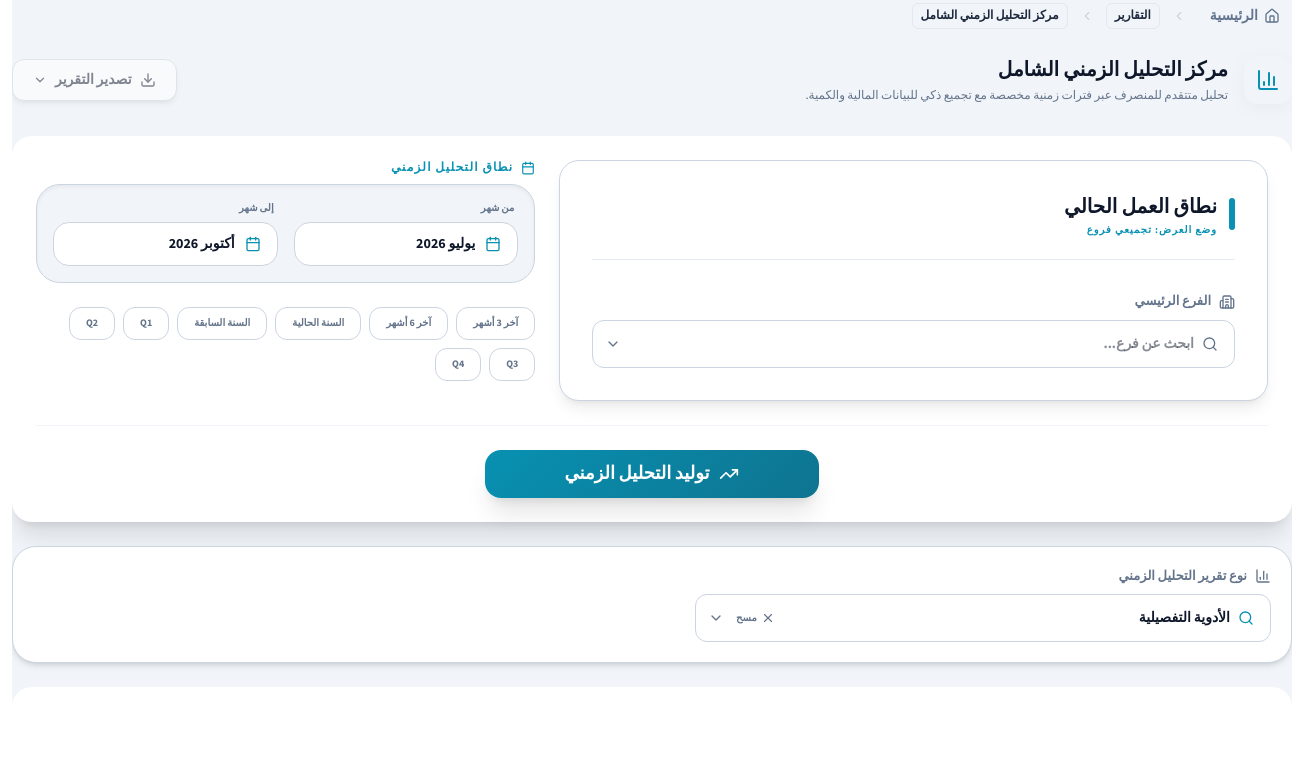
it: TemporalAnalysisHub report-type clear (مسح) › clear empties the visible box (no stale name), keeps it re-selectable
Focus the field showing "الأدوية التفصيلية" at point(1006, 618), box [783,596,1230,640]
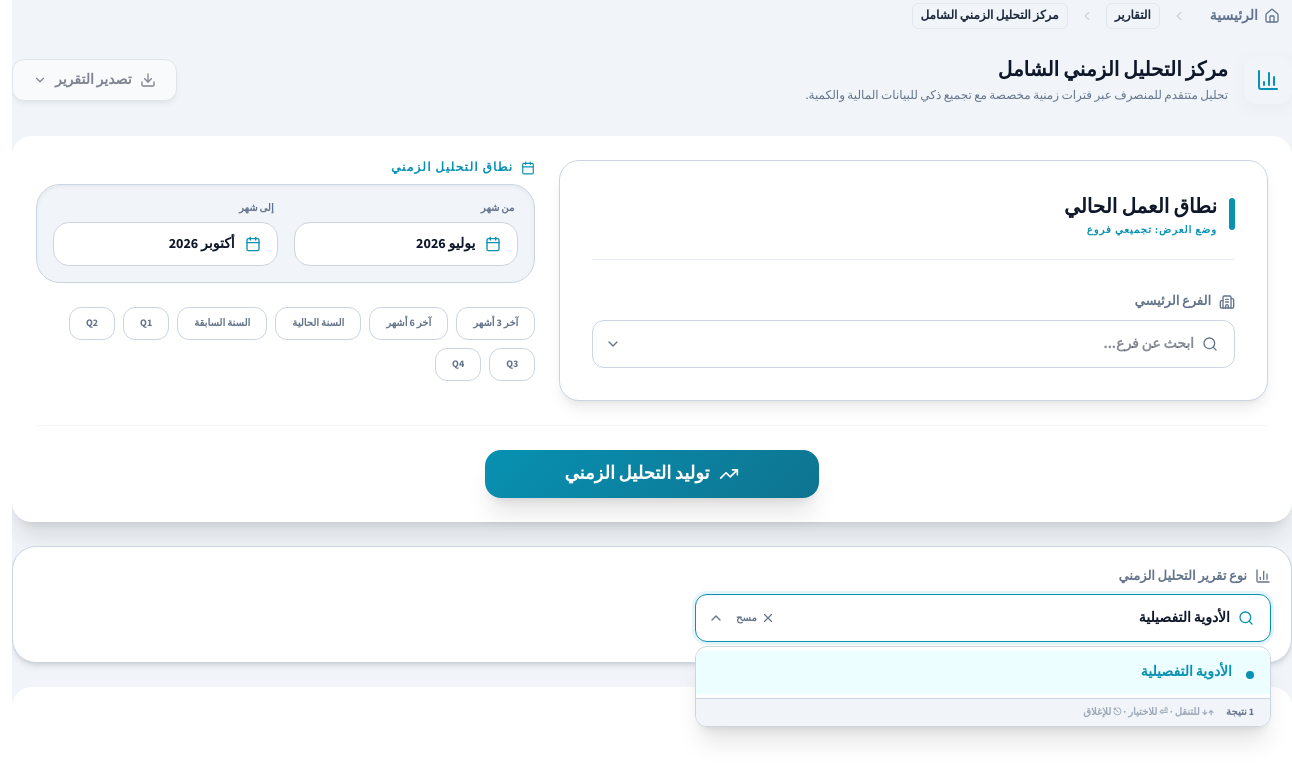
Clear the field showing "الأدوية التفصيلية" at point(1006, 618), box [783,596,1230,640]
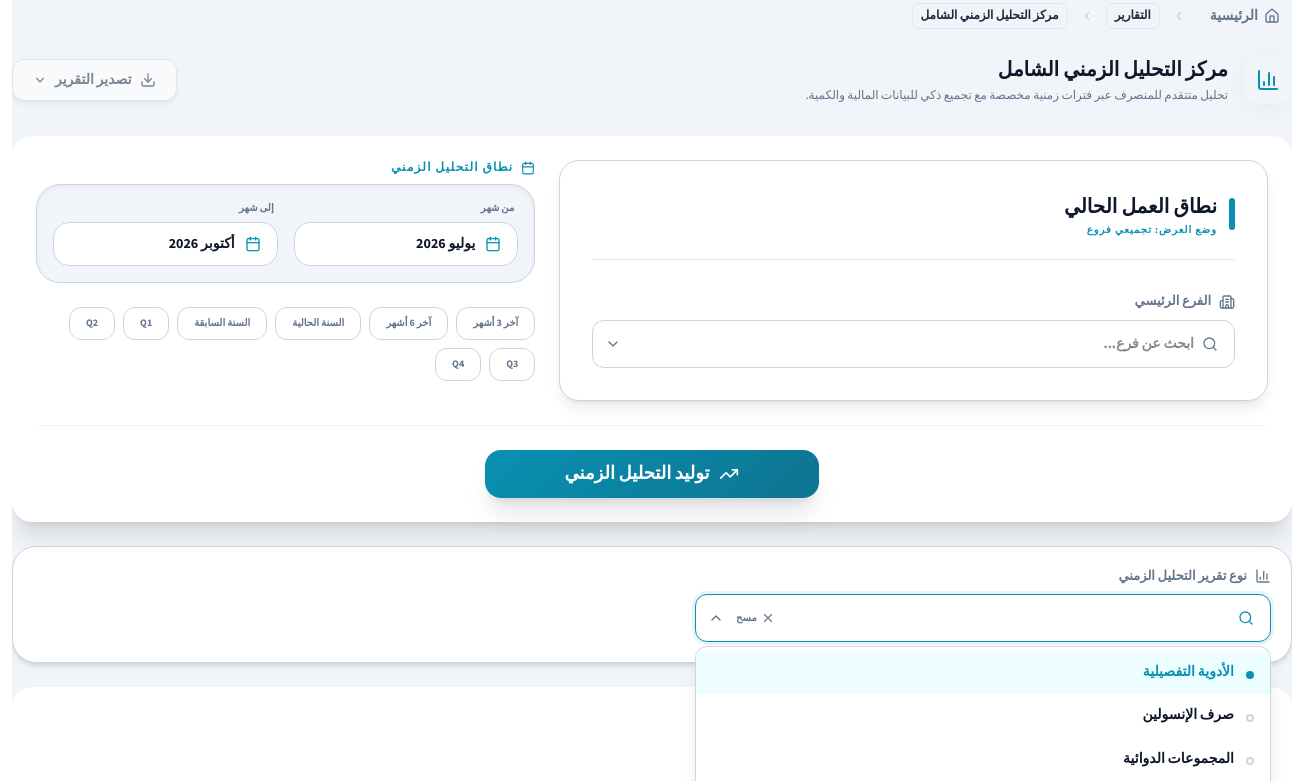
Click the button "صرف الإنسولين".
click(1188, 715)  # box [696,694,1270,738]
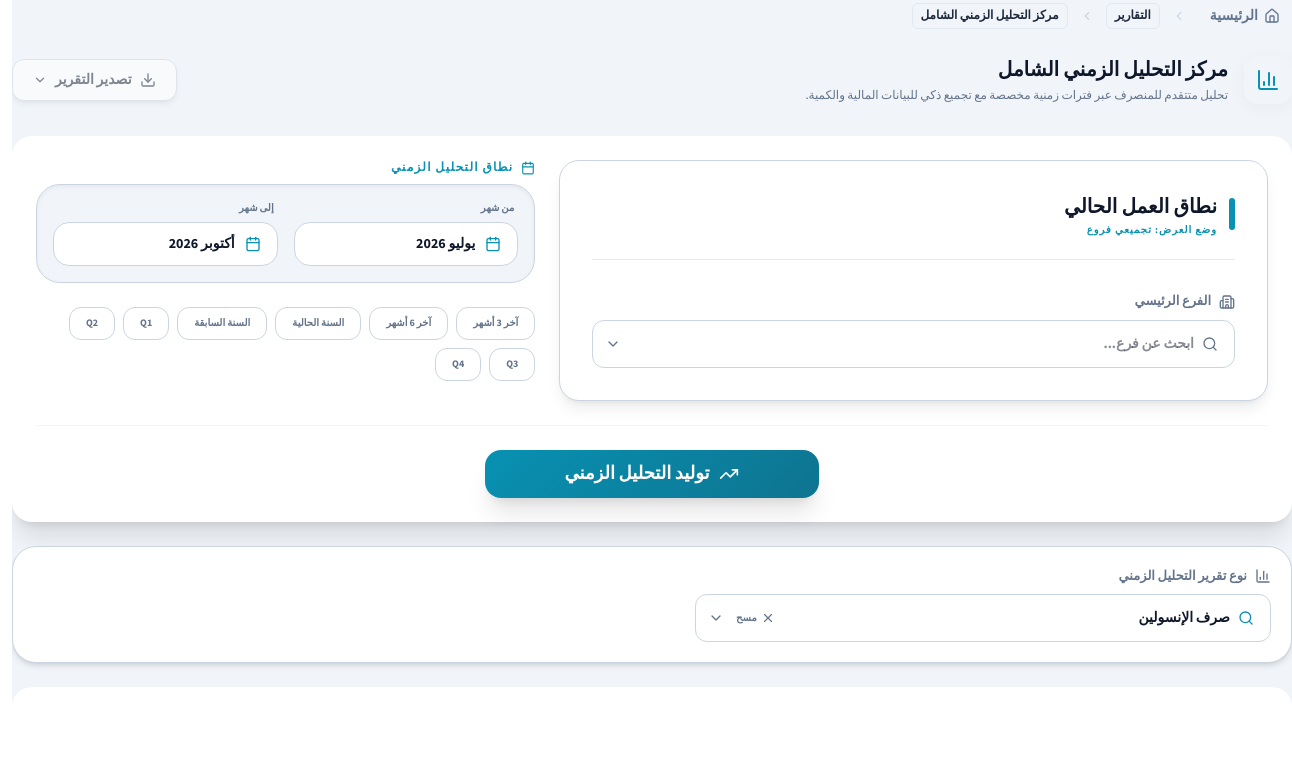
Now the field showing "صرف الإنسولين" is shown, box [783,596,1230,640]
Click the button titled "مسح التحديد".
click(755, 618)  # box [728,606,783,630]
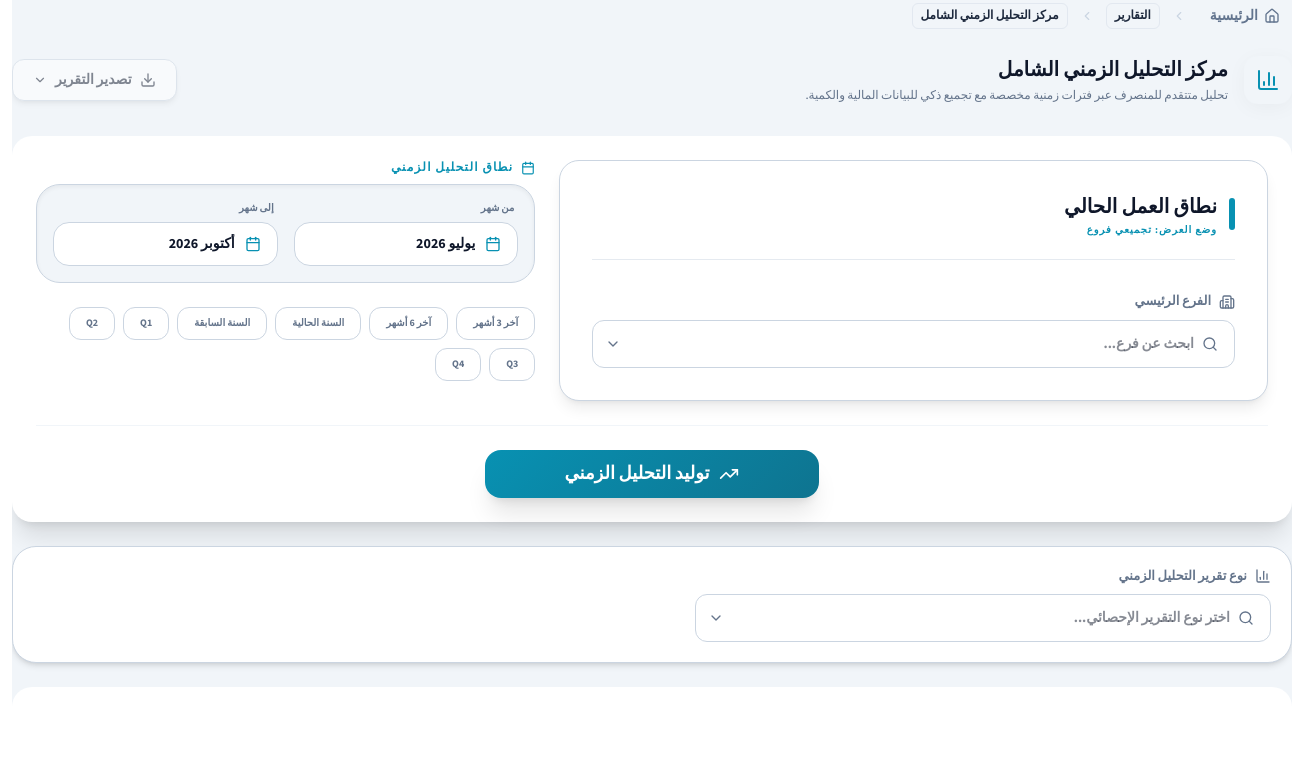
Expected: the button showing "صرف الإنسولين" is not shown
Click the field with placeholder "اختر نوع التقرير الإحصائي...".
click(979, 618)  # box [728,596,1230,640]
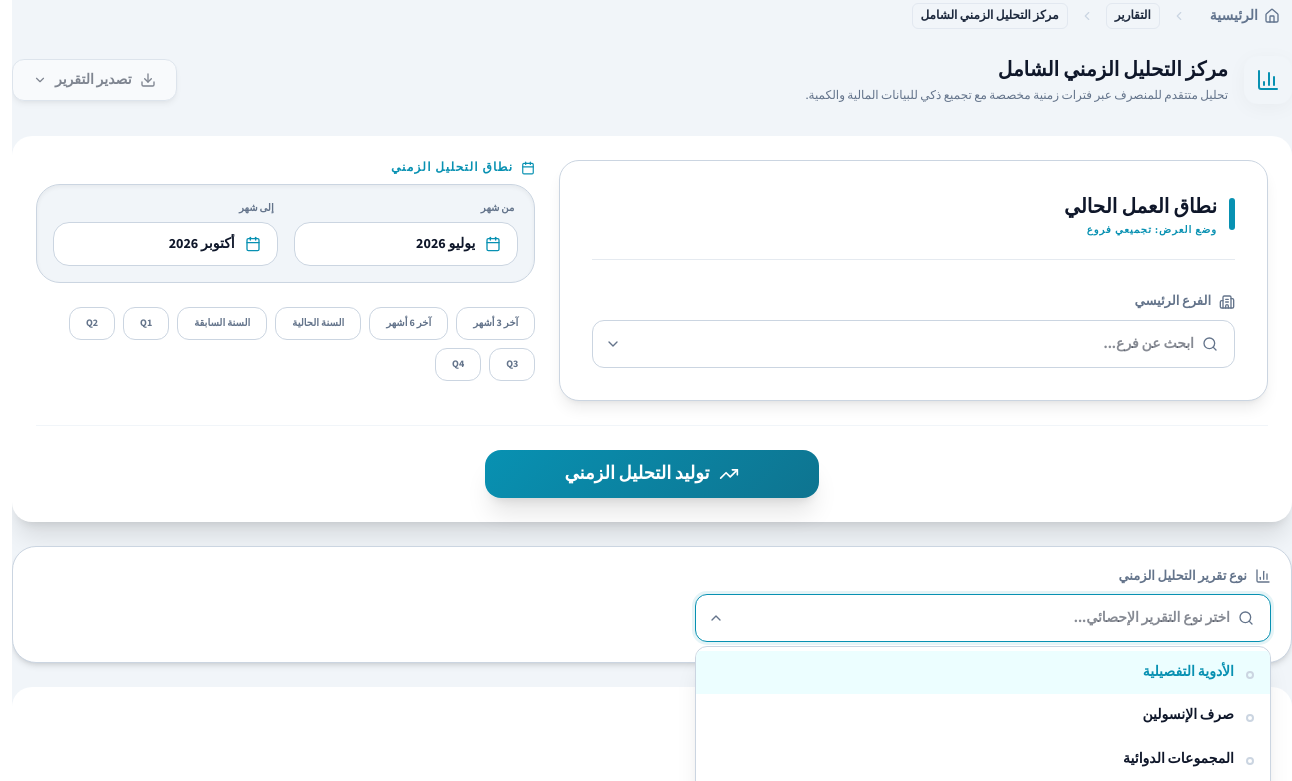
Click the button "صرف الإنسولين".
click(1188, 715)  # box [696,694,1270,738]
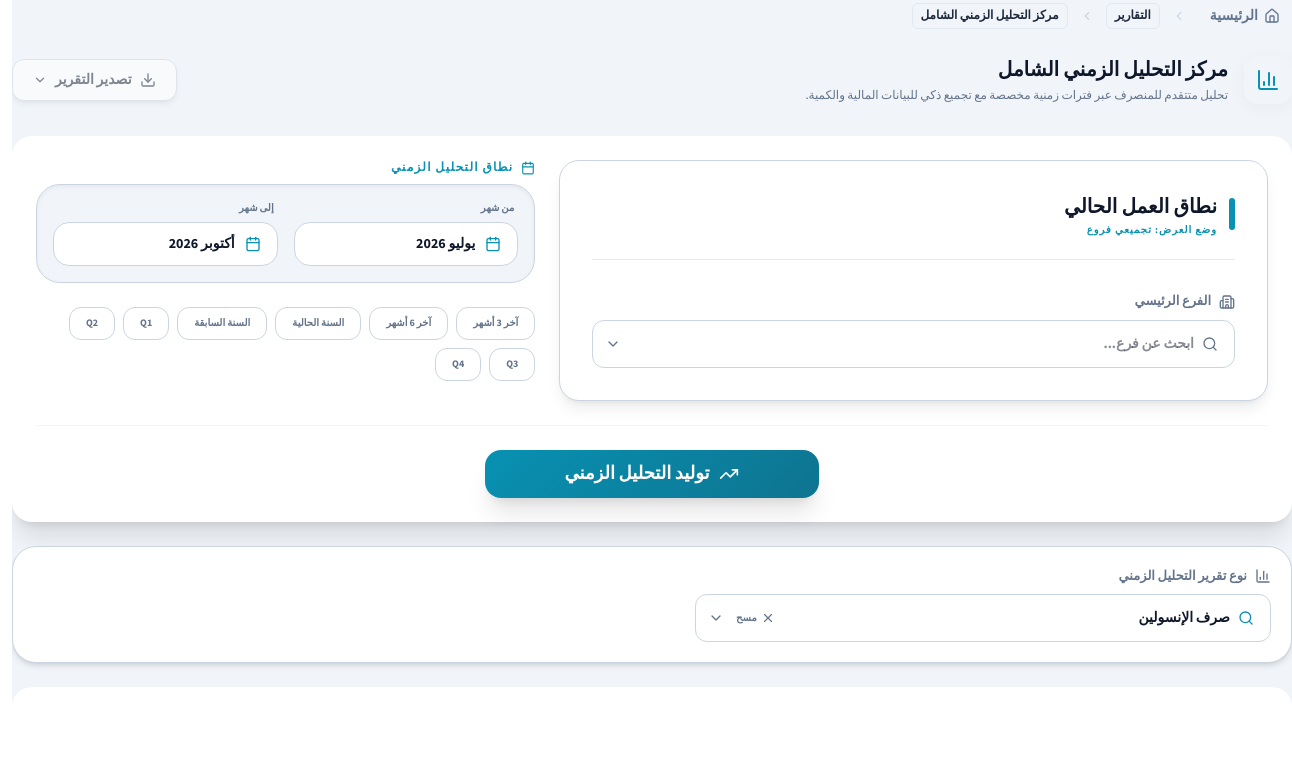
Now the field showing "صرف الإنسولين" is shown, box [783,596,1230,640]
